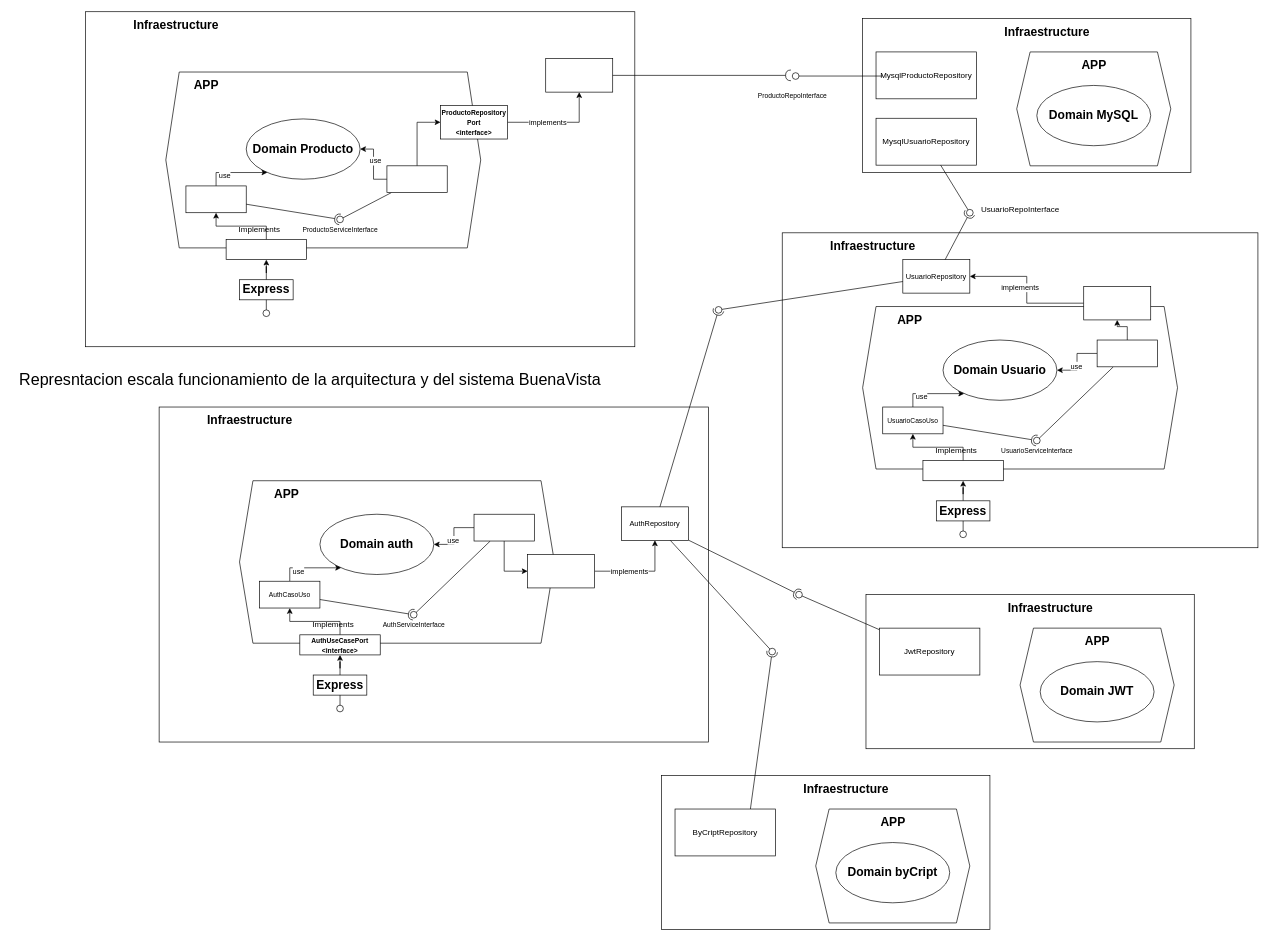
Some shapes in this 1270 by 941 pixel diagram are drawn without their labels. The centre of each missing label's shape, as x and y in pixels:
"AuthRepository Port <interface>" belongs at pixel 561 571.
"AuthService" belongs at pixel 503 527.
"ProductoCasoUso" belongs at pixel 215 199.
"ProductoRepository" belongs at pixel 579 75.
"ProductoService" belongs at pixel 416 179.
"ProductoUseCasePort <interface>" belongs at pixel 266 249.
"UsuarioRepository Port <interface>" belongs at pixel 1117 303.
"UsuarioService" belongs at pixel 1126 353.
"UsuarioUseCasePort <interface>" belongs at pixel 962 470.
